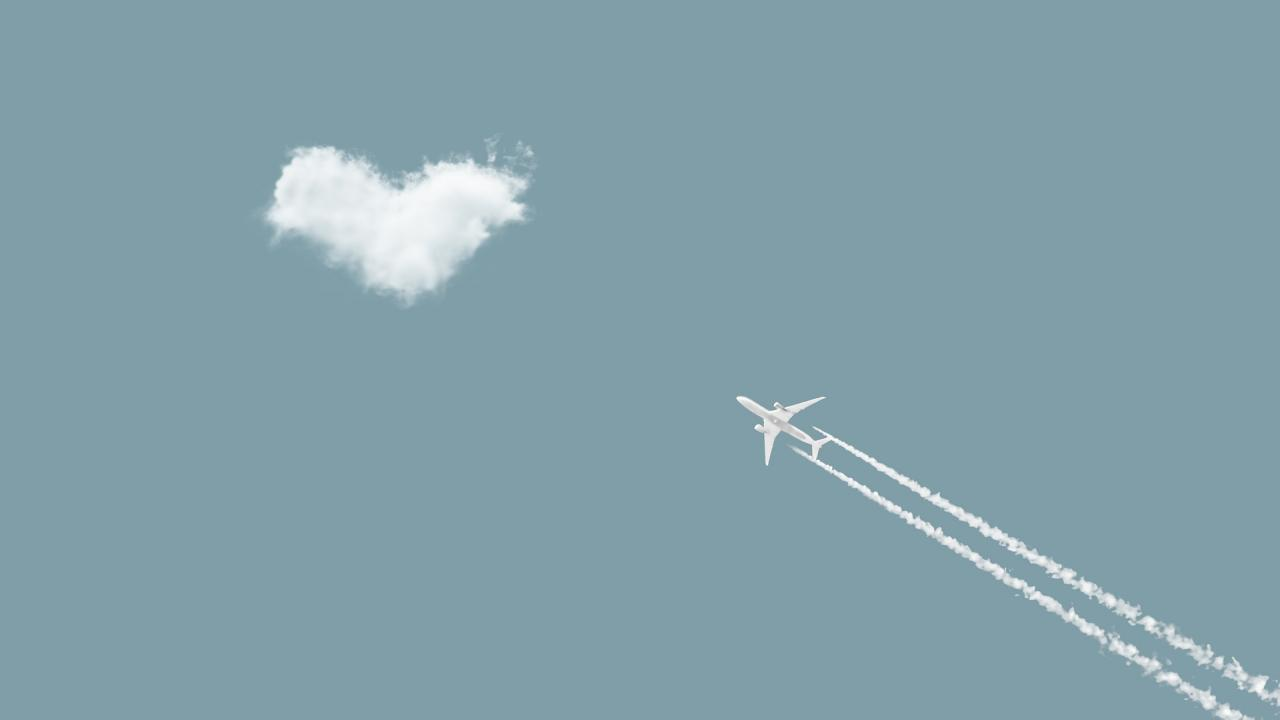Airplane: (714, 375, 854, 479)
